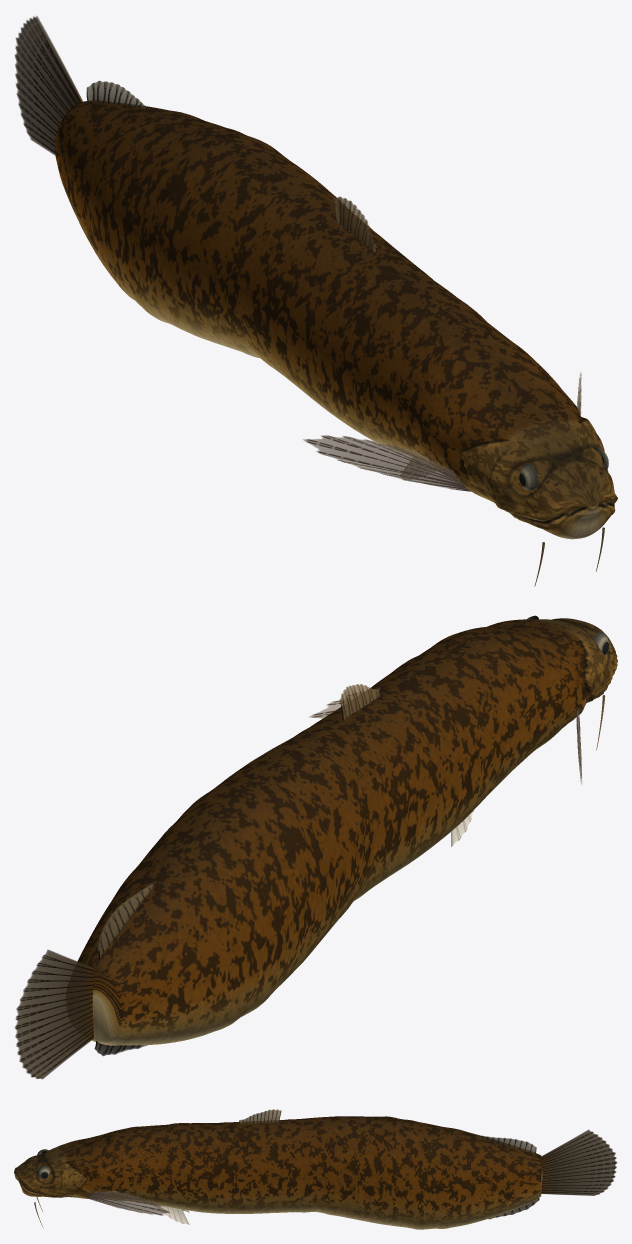
The model's file is mietus.glb.
3 renders of one model, top to bottom at view 1: azimuth 30°, elevation 25°; view 2: azimuth 150°, elevation 25°; view 3: azimuth 270°, elevation 25°, orthographic. The views are drawn at different scales.
Visible parts, largest first — view 1: Body, FinCaudal, FinPectoral, FinDorsal1, FinDorsal2; view 2: Body, FinCaudal, FinDorsal2, FinDorsal1; view 3: Body, FinCaudal, FinPectoral, FinDorsal1, FinDorsal2, FinPelvic, FinAnal.
Part boxes in pixels (bbox=[...]): Body: bbox=[55, 101, 617, 539]; FinCaudal: bbox=[15, 16, 82, 155]; FinPectoral: bbox=[302, 372, 581, 491]; FinDorsal1: bbox=[334, 196, 376, 253]; FinDorsal2: bbox=[86, 80, 146, 109]; Body: bbox=[77, 618, 617, 1045]; FinCaudal: bbox=[15, 949, 93, 1079]; FinDorsal2: bbox=[97, 882, 155, 959]; FinDorsal1: bbox=[339, 684, 380, 720]; Body: bbox=[14, 1116, 542, 1229]; FinCaudal: bbox=[541, 1129, 616, 1195]; FinPectoral: bbox=[86, 1191, 170, 1215]; FinDorsal1: bbox=[239, 1109, 281, 1124]; FinDorsal2: bbox=[476, 1135, 536, 1153]; FinPelvic: bbox=[155, 1205, 189, 1224]; FinAnal: bbox=[488, 1198, 539, 1219].
Size of the model in its own units: 0.276 by 0.2113 by 1.
10 materials, 9 textured.
